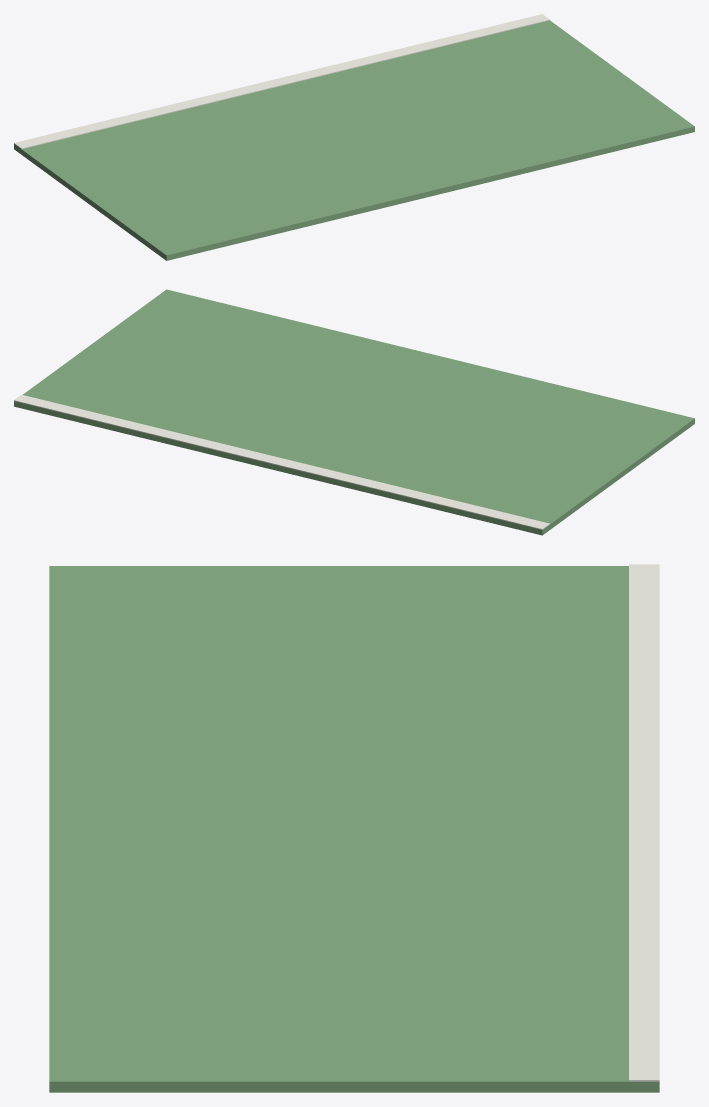
File: sideline-turf-strip-17922fcf.glb
The picture shows the model from 3 angles, top to bottom: view 1: azimuth 30°, elevation 25°; view 2: azimuth 150°, elevation 25°; view 3: azimuth 270°, elevation 25°; orthographic projection. The views are drawn at different scales.
Visible parts, largest first — view 1: sideline-turf-strip; view 2: sideline-turf-strip; view 3: sideline-turf-strip.
Part boxes in pixels (bbox=[...]): sideline-turf-strip: bbox=[14, 14, 694, 260]; sideline-turf-strip: bbox=[14, 289, 694, 535]; sideline-turf-strip: bbox=[49, 564, 659, 1092].
Size of the model in its own units: 4 by 0.0459 by 2.
